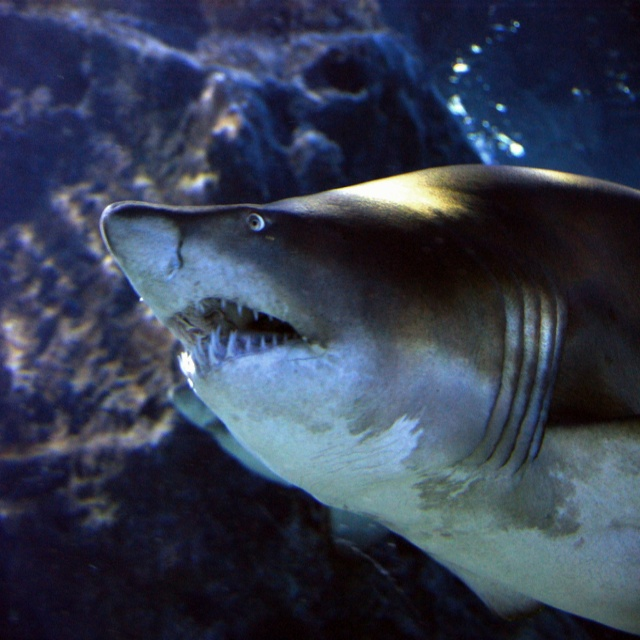Shark: (98, 161, 640, 634)
